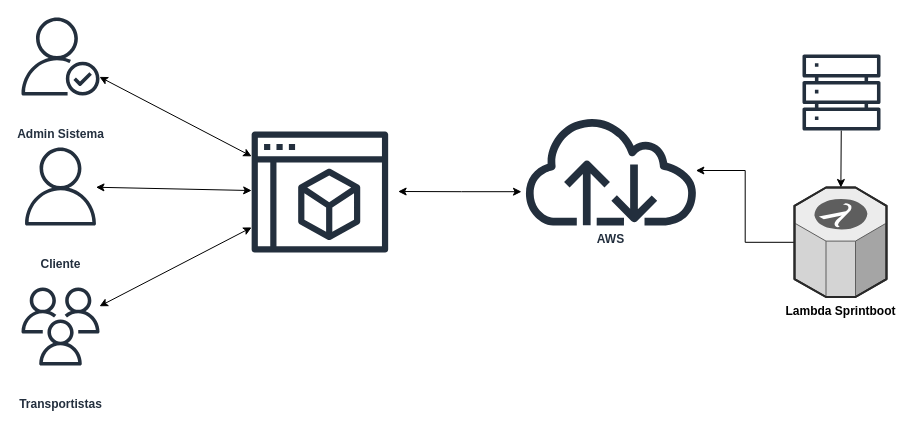
The diagram is 913 pixels wide and 428 high, and some of its shapes have lost their labels. The centre of each missing label's shape, as x and y in pixels:
"My SQL" belongs at (x=841, y=92).
"Translazaro App" belongs at (x=319, y=191).
